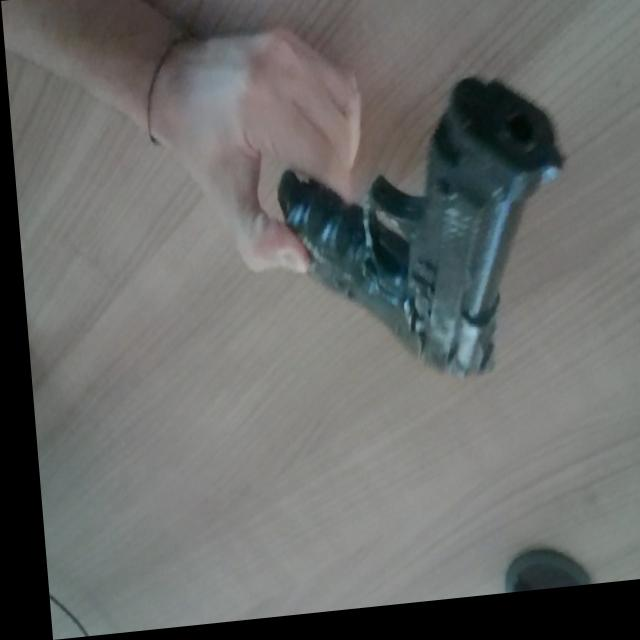handgun: (247, 71, 578, 433)
